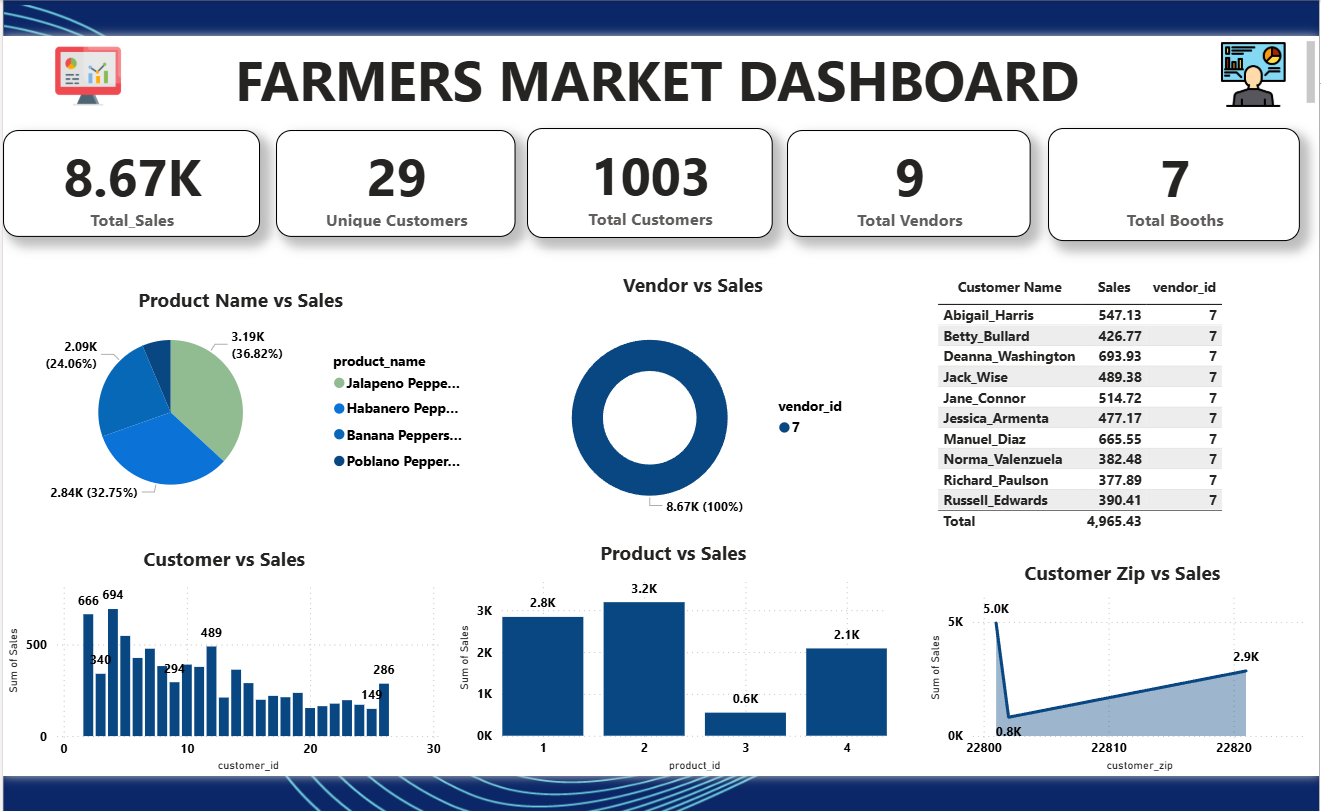

The dashboard page shown, as its layout file describes it:
{"tool":"powerbi","page":{"name":"Sales Wise Analysis","canvas":[1280,720],"ordinal":1},"visuals":[{"type":"columnChart","title":"Customer vs Sales","fields":{"Category":["customer_purchases.customer_id"],"Y":["Sum(customer_purchases.Sales)"]},"box":[0,494.9,430.5,224.9],"z":0},{"type":"clusteredColumnChart","title":"Product vs Sales","fields":{"Category":["product.product_id"],"Y":["Sum(customer_purchases.Sales)"]},"box":[438.7,489.5,426.4,230.3],"z":1000},{"type":"pieChart","title":"Product Name vs Sales","fields":{"Category":["product.product_name"],"Y":["Sum(customer_purchases.Sales)"]},"box":[0,242.7,462,220.7],"z":2000},{"type":"donutChart","title":"Vendor vs Sales","fields":{"Category":["customer_purchases.vendor_id"],"Y":["Sum(customer_purchases.Sales)"]},"box":[499.1,229,344.1,260.5],"z":3000},{"type":"textbox","box":[0,0,1280.6,75.4],"z":4000},{"type":"image","box":[1153,0,127.5,75.4],"z":5000},{"type":"image","box":[43.9,0,78.1,78.1],"z":6000},{"type":"card","fields":{"Values":["customer_purchases.Total_Sales"]},"box":[0,91.9,249.5,104.2],"z":7000},{"type":"card","fields":{"Values":["Count(customer_purchases.customer_id)"]},"box":[266,91.9,233.1,104.2],"z":8000},{"type":"card","fields":{"Values":["CountNonNull(customer_purchases.customer_id)"]},"box":[510,89.1,238.6,106.9],"z":9000},{"type":"card","fields":{"Values":["Count(vendor.vendor_id)"]},"box":[762.3,91.9,237.2,104.2],"z":10000},{"type":"card","fields":{"Values":["Count(vendor_booth_assignments.booth_number)"]},"box":[1015.9,89.1,245.4,109.7],"z":11000},{"type":"tableEx","fields":{"Values":["customer.Customer_FUll_Name","Sum(customer_purchases.Sales)","customer_purchases.vendor_id"]},"box":[903.5,229,377,279.7],"z":12000},{"type":"areaChart","title":"Customer Zip vs Sales","fields":{"Category":["customer.customer_zip"],"Y":["Sum(customer_purchases.Sales)"]},"box":[896.7,508.7,383.9,211.1],"z":13000}]}

Visuals, with their boxes on the page's 1280x720 design canvas (x1, y1, x2, y2). These are canvas units, not pixel positions in the 1321x811 screenshot, which may show the page scaled, cropped or inside an application window:
"Customer vs Sales" columnChart: (0,495,430,720)
"Product vs Sales" clusteredColumnChart: (439,490,865,720)
"Product Name vs Sales" pieChart: (0,243,462,463)
"Vendor vs Sales" donutChart: (499,229,843,490)
textbox: (0,0,1281,75)
image: (1153,0,1280,75)
image: (44,0,122,78)
card - customer_purchases.Total_Sales: (0,92,250,196)
card - Count(customer_purchases.customer_id): (266,92,499,196)
card - CountNonNull(customer_purchases.customer_id): (510,89,749,196)
card - Count(vendor.vendor_id): (762,92,1000,196)
card - Count(vendor_booth_assignments.booth_number): (1016,89,1261,199)
tableEx - customer.Customer_FUll_Name x Sum(customer_purchases.Sales): (904,229,1280,509)
"Customer Zip vs Sales" areaChart: (897,509,1281,720)
